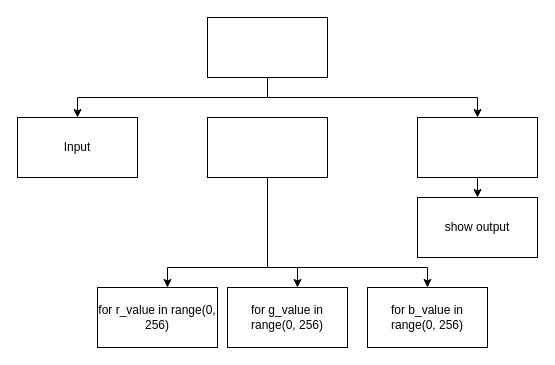
The diagram is 555 pixels wide and 365 high, and some of its shapes have lost their labels. The shapes that lost their labels are listed below. From the top down, each one's centre as x and y in pixels, then its label:
At point (267, 47): "RGB program".
At point (267, 147): "Process".
At point (477, 147): "Output".
